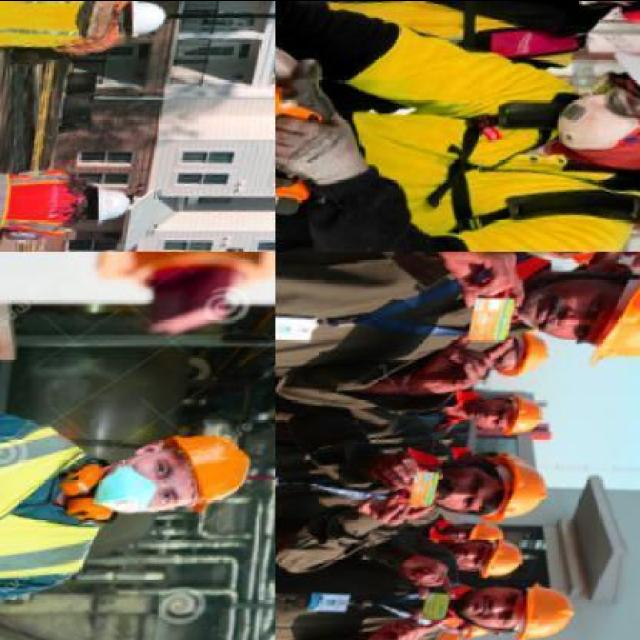helmet: (168, 421, 252, 517), (586, 252, 638, 380), (486, 452, 556, 534), (522, 582, 580, 640), (504, 326, 556, 382), (500, 392, 546, 440), (476, 536, 520, 586), (123, 0, 168, 47), (88, 182, 130, 226)
